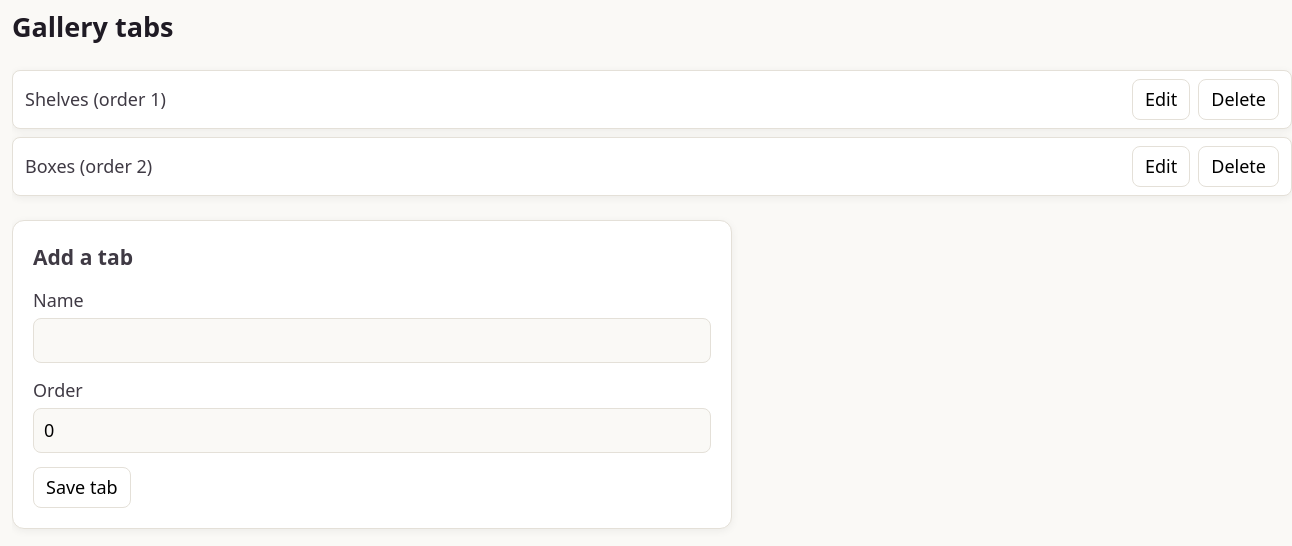
Test: TabsPanel › cancels an edit and resets the form
The width and height of the screenshot is (1292, 546).
Click the button "Edit" in the row of "Shelves": (1161,100) 1132,79 -> 1190,120
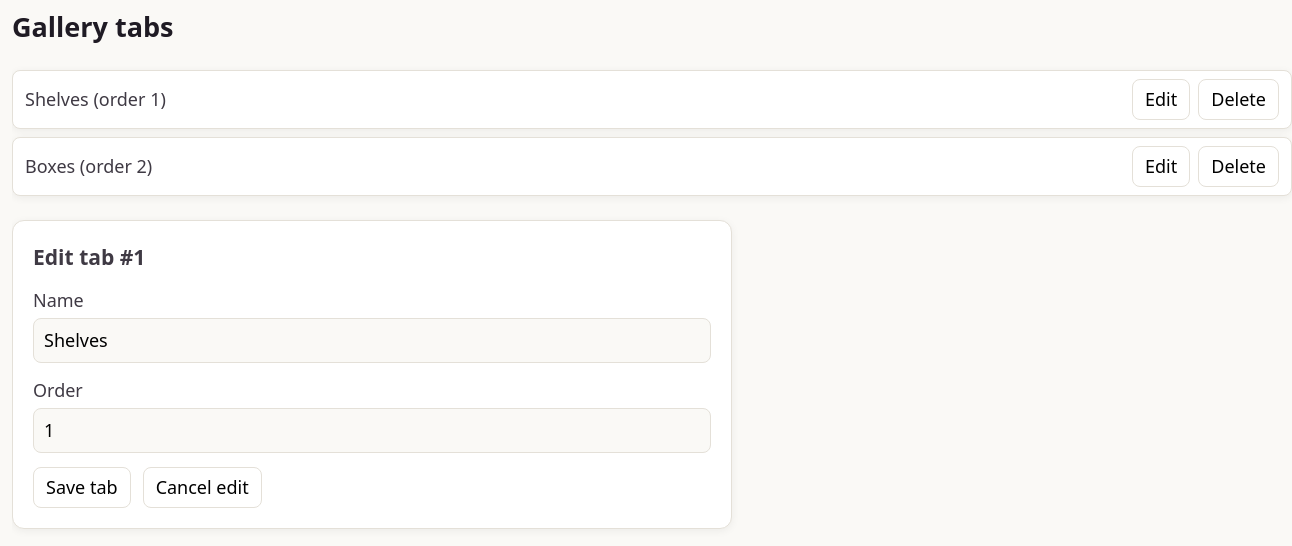
Expected: the heading "Edit tab #1" is shown, 33,242 -> 145,271
Click the button "Cancel edit": (202,487) 143,467 -> 262,508
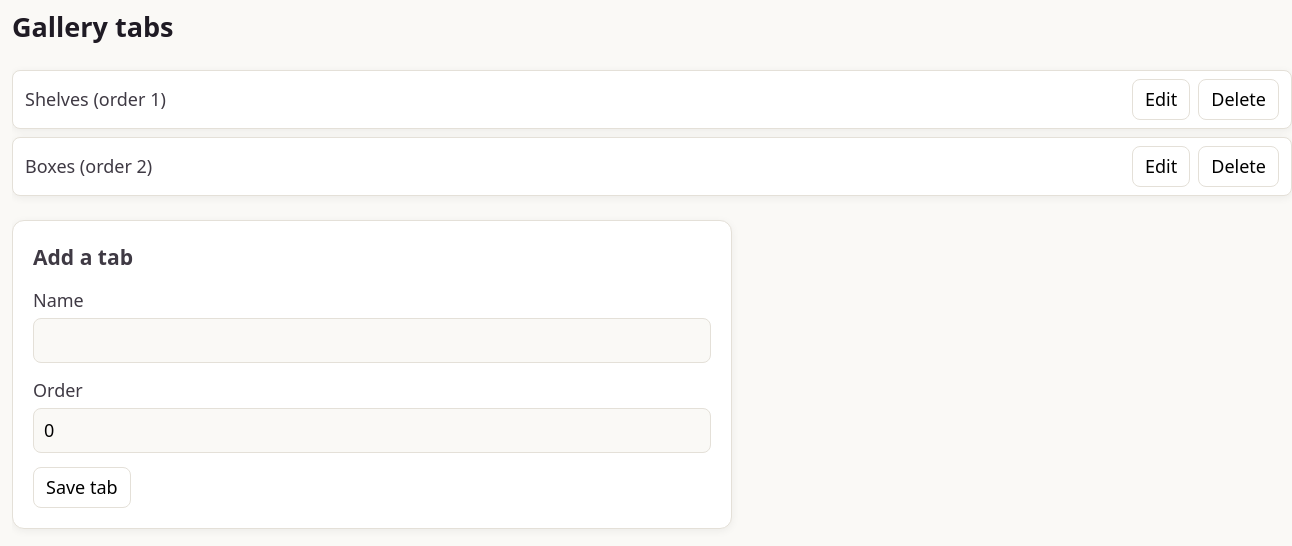
Expected: the heading "Add a tab" is shown, 33,242 -> 133,271
